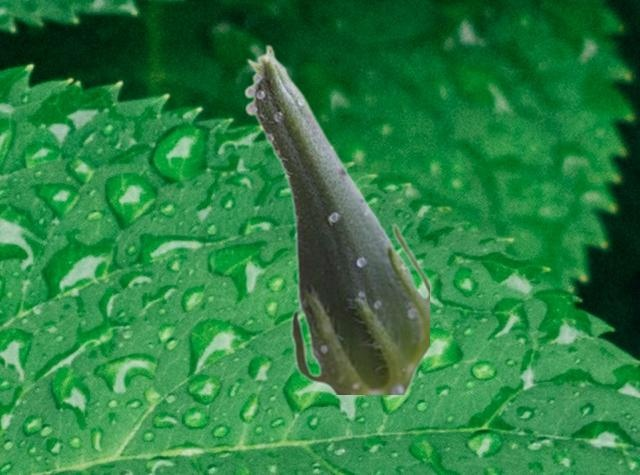okra: (243, 44, 428, 393)
